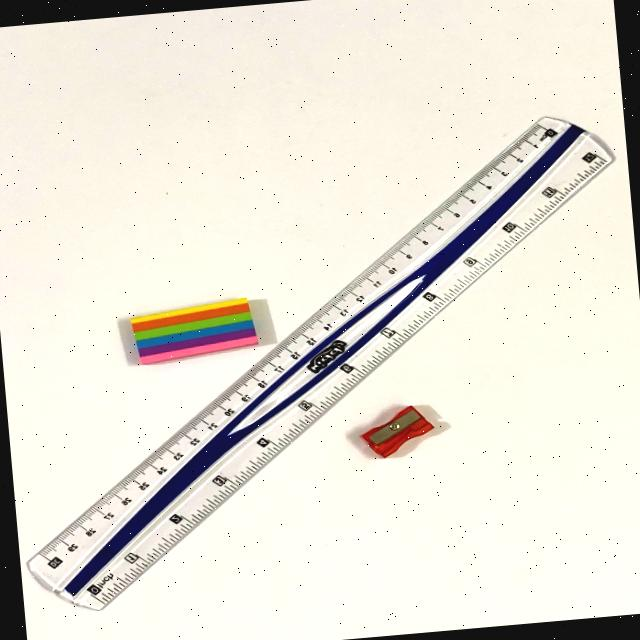Eraser: (94, 279, 278, 380)
Scale: (21, 99, 623, 625)
Sharpner: (335, 390, 454, 475)
